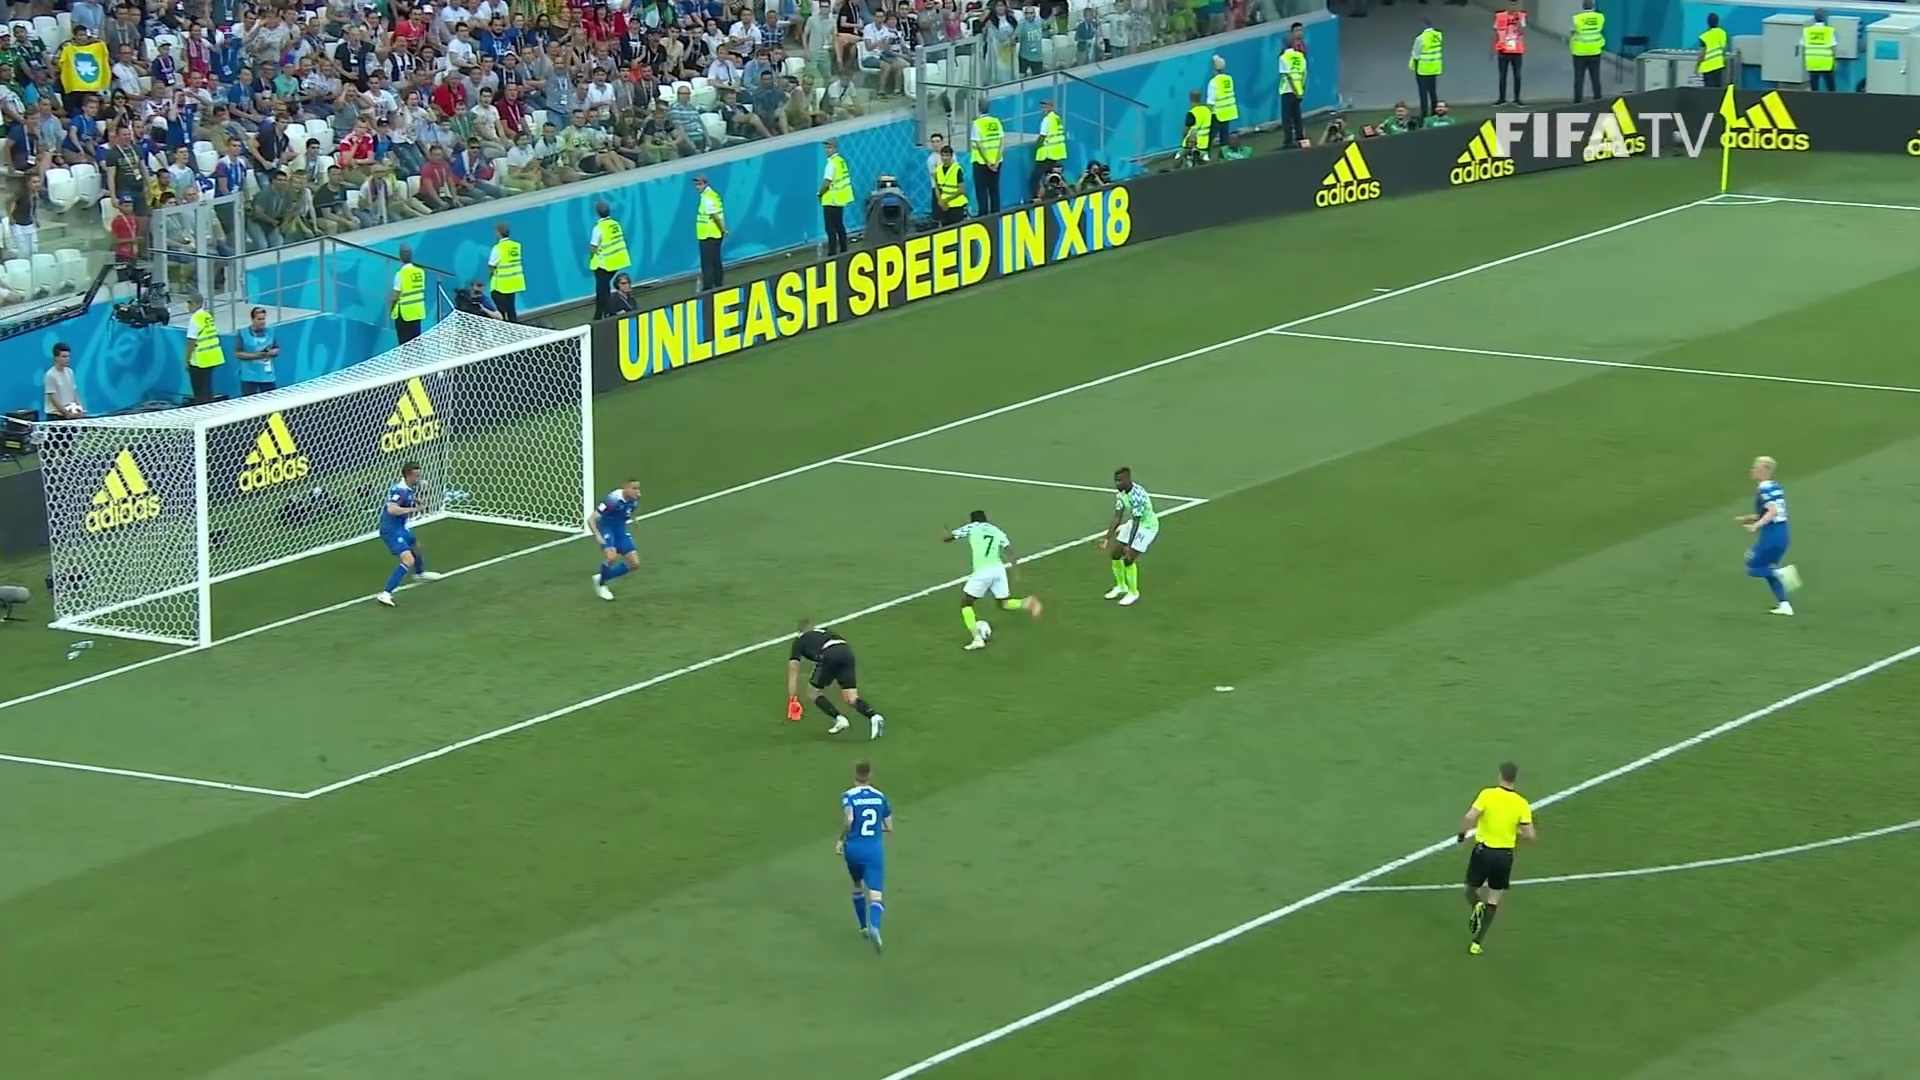ball: (975, 619, 991, 641)
person: (943, 511, 1041, 647), (788, 616, 886, 740), (1738, 453, 1805, 615), (377, 462, 437, 602), (1100, 469, 1159, 604), (835, 760, 896, 867), (590, 479, 641, 601)
